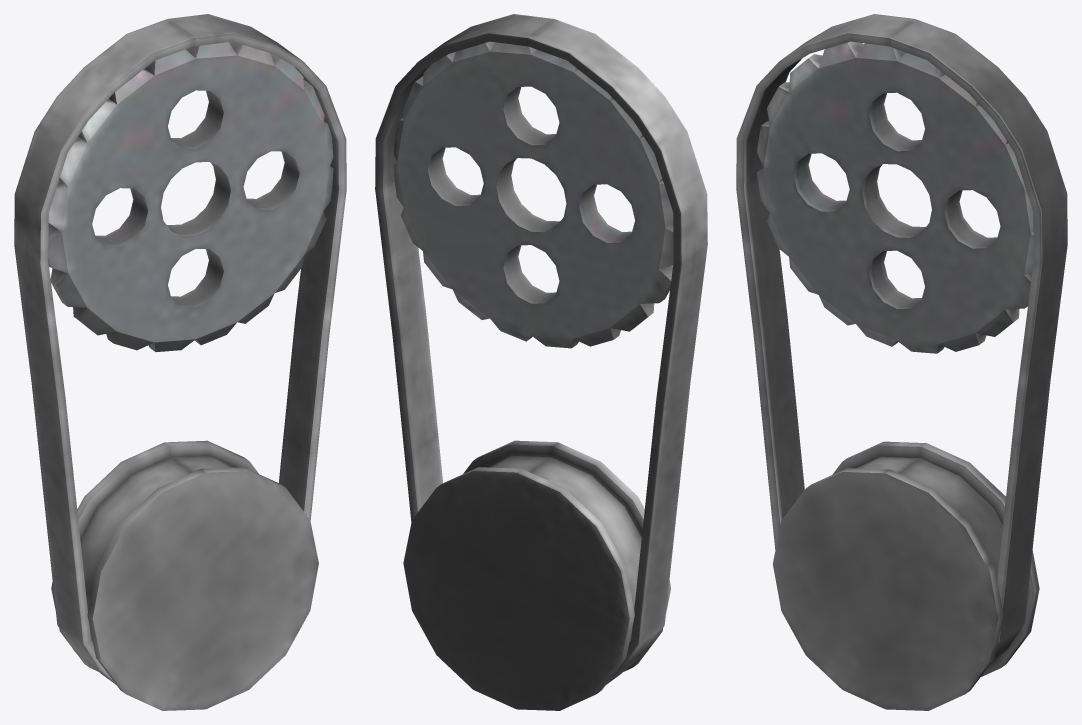
Rendered from chain.glb.
3 views of the same model, side by side, from view 1: azimuth 30°, elevation 25°; view 2: azimuth 150°, elevation 25°; view 3: azimuth 330°, elevation 25° (orthographic).
Parts seen in each view (by area): view 1: camshaftSprocket_lambert2_0.001, crankshaftSprocket_lambert2_0.001, belt_lambert2_0.001; view 2: camshaftSprocket_lambert2_0.001, crankshaftSprocket_lambert2_0.001, belt_lambert2_0.001; view 3: camshaftSprocket_lambert2_0.001, crankshaftSprocket_lambert2_0.001, belt_lambert2_0.001.
Boxes of the visible parts, x1,y1,x2,y2 form: camshaftSprocket_lambert2_0.001: (48,41,333,351); crankshaftSprocket_lambert2_0.001: (51,440,318,710); belt_lambert2_0.001: (14,14,346,684); camshaftSprocket_lambert2_0.001: (394,41,673,348); crankshaftSprocket_lambert2_0.001: (403,440,670,710); belt_lambert2_0.001: (375,14,707,684); camshaftSprocket_lambert2_0.001: (756,41,1033,353); crankshaftSprocket_lambert2_0.001: (773,441,1039,710); belt_lambert2_0.001: (736,14,1067,662).
Bounding box in the file's own units: 22.56 × 46.91 × 5.29.
Materials: 1 (1 with a texture image).
